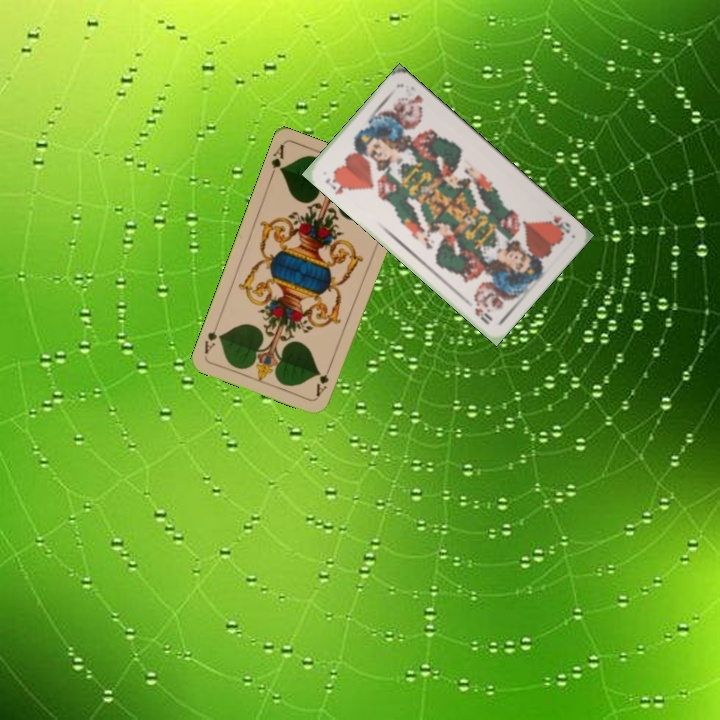GA: (266, 141, 287, 181), (312, 361, 334, 399)
HO: (542, 211, 574, 237), (321, 172, 353, 198)
